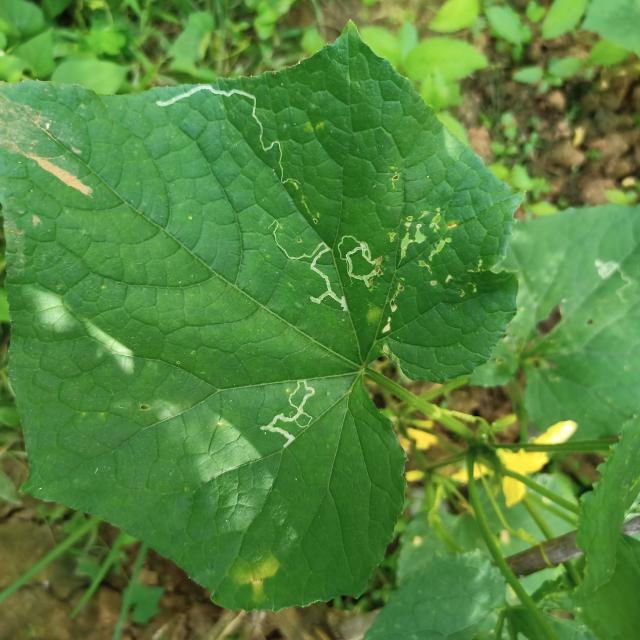disease_cucumber: (232, 558, 280, 608)
